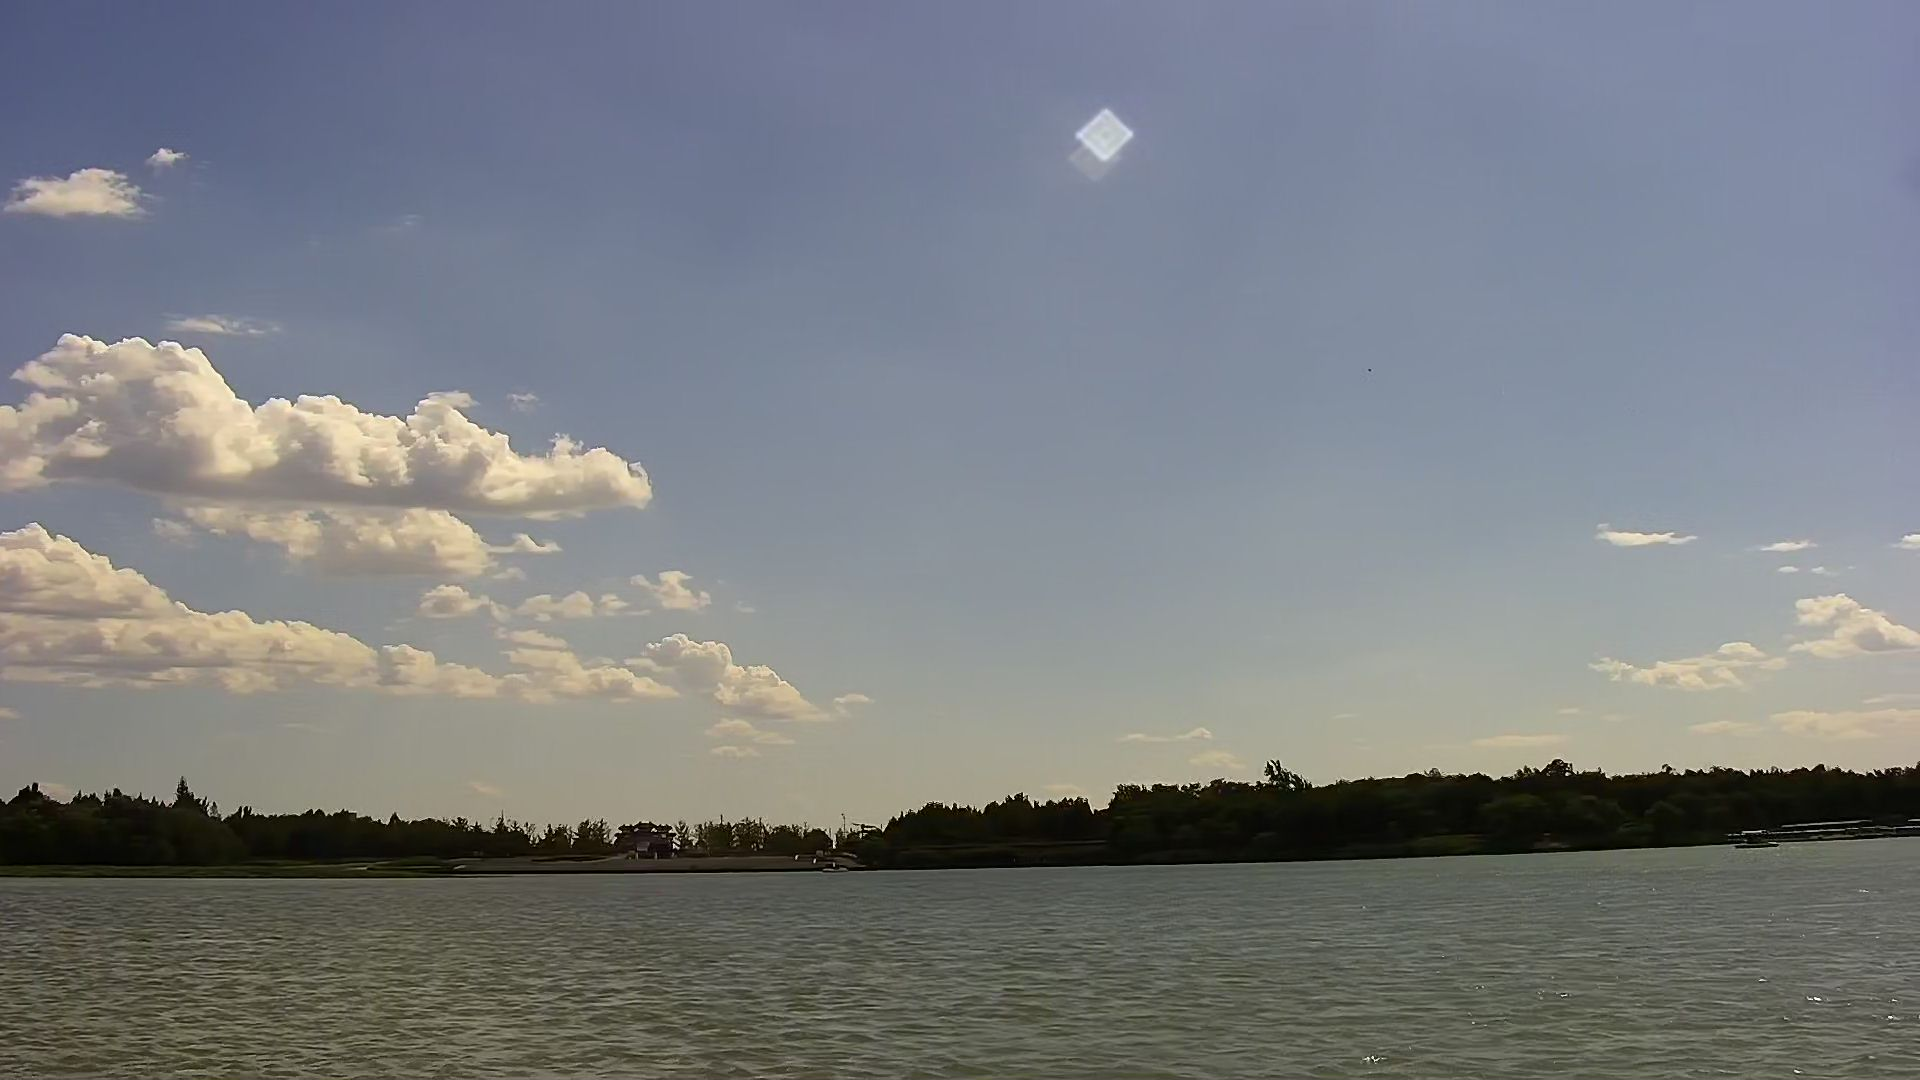boat: (1735, 827, 1766, 849)
harbor: (1745, 820, 1919, 843)
